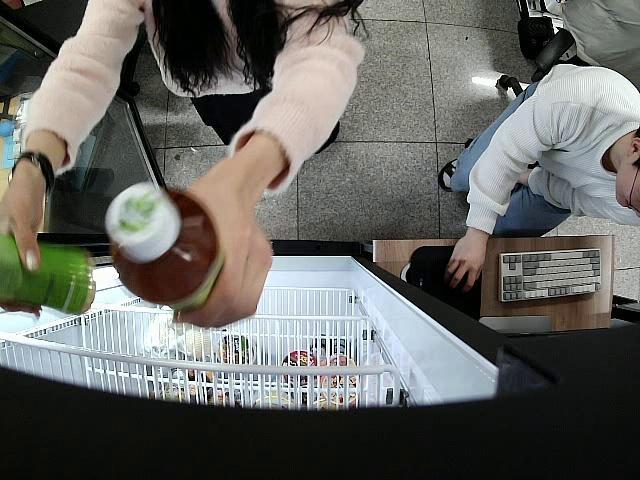19_17cha: (104, 184, 222, 309), (0, 232, 98, 318)
